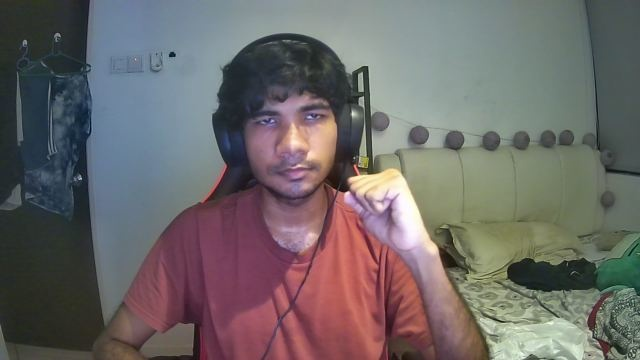Goodbye: (339, 167, 438, 256)
